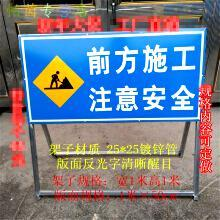sign: (26, 37, 198, 123)
